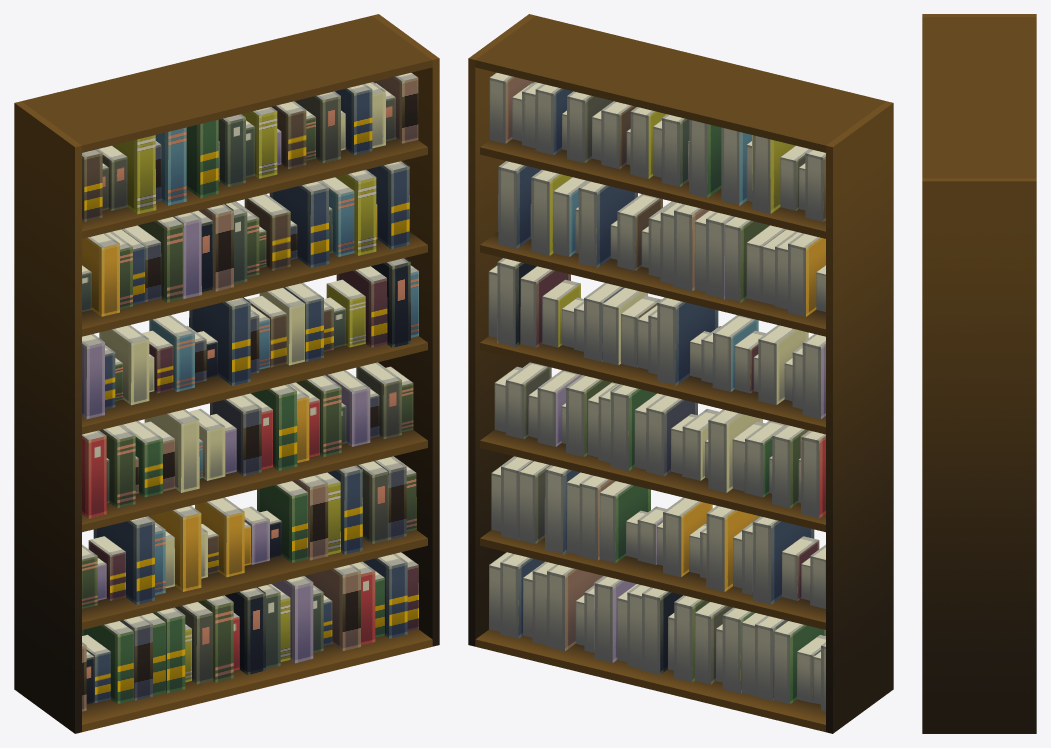
File: BookShelfOptimized.fbx
The picture shows the model from 3 angles, left to right: view 1: azimuth 30°, elevation 25°; view 2: azimuth 150°, elevation 25°; view 3: azimuth 270°, elevation 25°; orthographic projection. The views are drawn at different scales.
Visible parts, largest first — view 1: bookShelfBig1; view 2: bookShelfBig1; view 3: bookShelfBig1.
Boxes of the visible parts, bbox=[...] form: bookShelfBig1: bbox=[14, 14, 439, 733]; bookShelfBig1: bbox=[468, 14, 893, 733]; bookShelfBig1: bbox=[922, 14, 1036, 733].
Bounding box in the file's own units: 10400 × 16000 × 3000.
